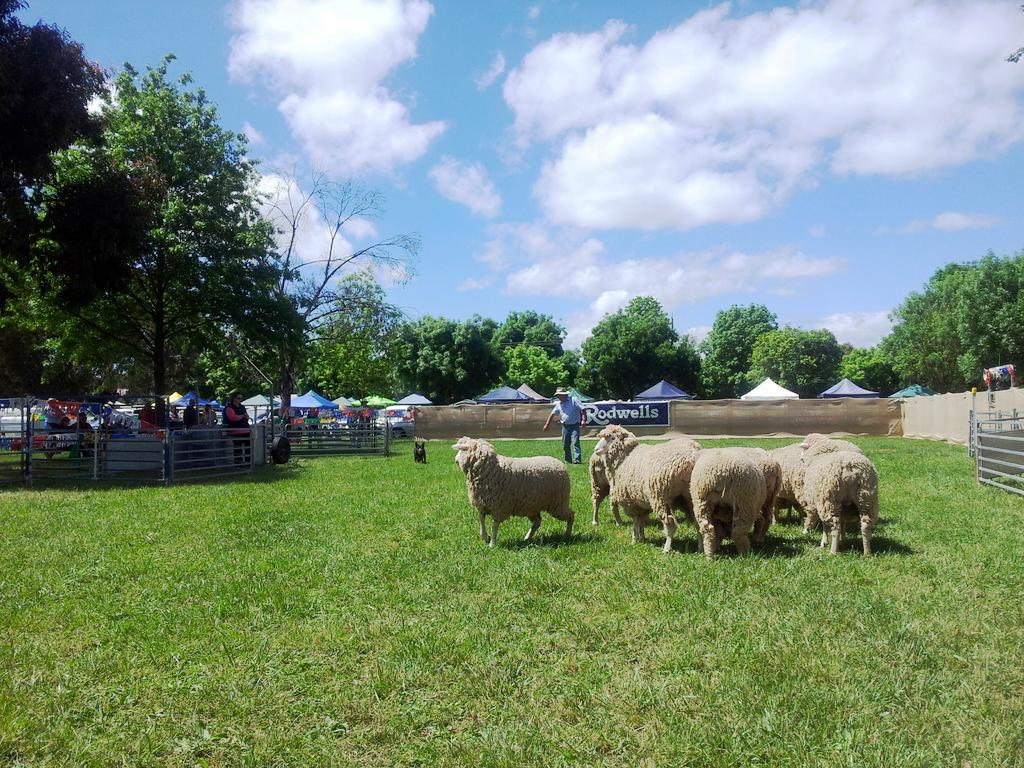Sheep: (448, 436, 578, 547), (594, 424, 694, 549), (795, 431, 880, 556), (688, 447, 764, 557), (779, 440, 865, 517), (590, 448, 651, 529), (735, 446, 780, 544)
